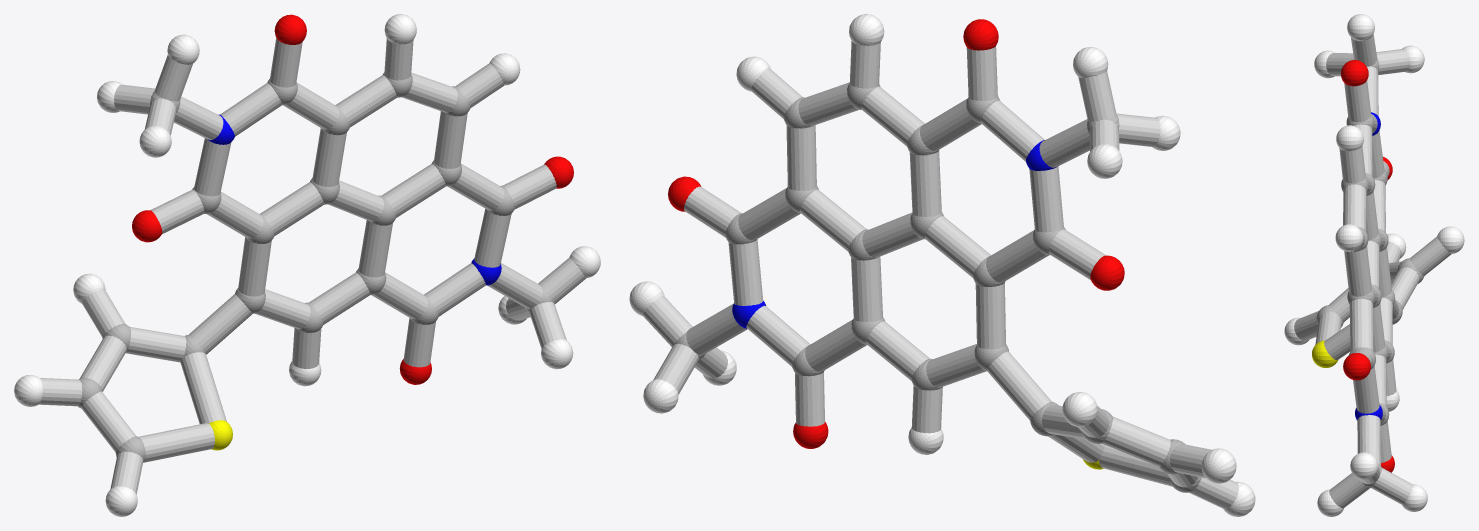
The model's file is Dimethyl_Naphthalene_Dicarboximide_Phi_30_Theta_50_Thiophene.glb.
The picture shows the model from 3 angles, left to right: view 1: azimuth 30°, elevation 25°; view 2: azimuth 150°, elevation 25°; view 3: azimuth 270°, elevation 25°; orthographic projection. The views are drawn at different scales.
Visible parts, largest first — view 1: grp14119, grp7241, grp1, grp12309, grp11585; view 2: grp14119, grp7241, grp1, grp12309, grp11585; view 3: grp14119, grp7241, grp1, grp12309, grp13757, grp11585.
Part boxes in pixels (x1,y1,x2,y2): grp14119: [39, 38, 586, 494]; grp7241: [14, 14, 600, 516]; grp1: [78, 72, 552, 462]; grp12309: [132, 14, 573, 384]; grp11585: [208, 114, 501, 285]; grp14119: [642, 41, 1238, 509]; grp7241: [629, 14, 1255, 516]; grp1: [674, 83, 1201, 492]; grp12309: [668, 19, 1124, 448]; grp11585: [732, 140, 1057, 328]; grp14119: [1294, 34, 1451, 508]; grp7241: [1284, 14, 1464, 516]; grp1: [1316, 58, 1424, 487]; grp12309: [1341, 60, 1394, 472]; grp13757: [1312, 340, 1338, 367]; grp11585: [1355, 112, 1382, 420].
Bounding box in the file's own units: 12.14 × 8.79 × 3.87.
